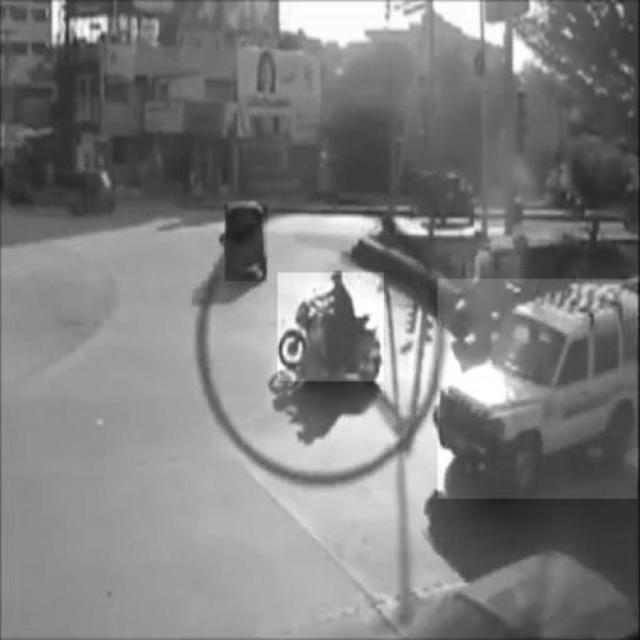vehicle: (438, 279, 638, 499), (278, 273, 384, 381), (226, 204, 268, 281)
